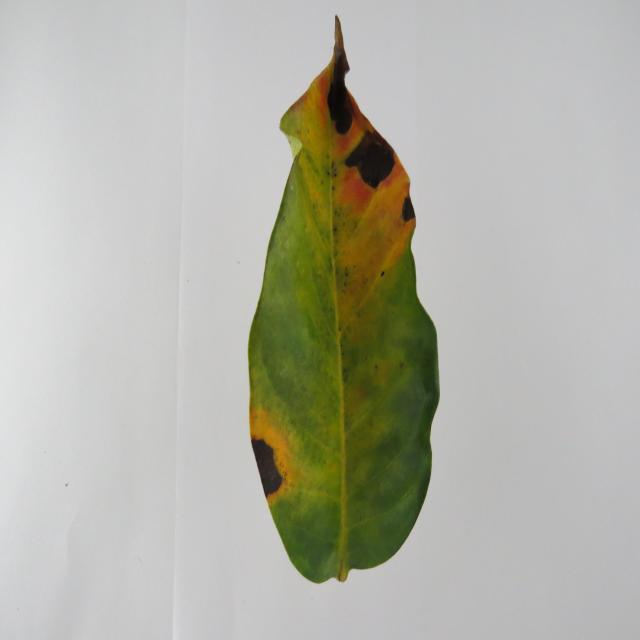DeficienciaNutricional-Fosforo: (249, 17, 439, 583)
